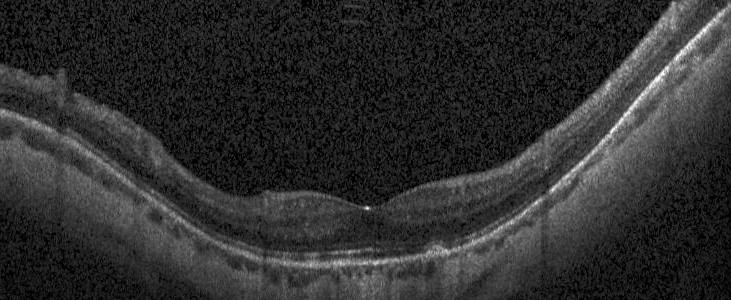retinal_drusen: (427, 245, 447, 255)
